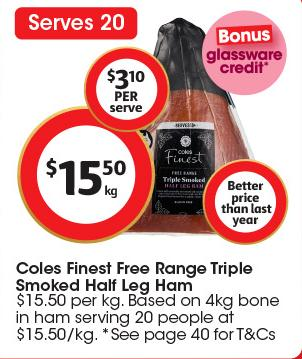description_block: (10, 255, 259, 295)
price_main: (16, 115, 148, 245)
product_image_block: (131, 21, 254, 242)
unit_price_block: (10, 288, 140, 312)
